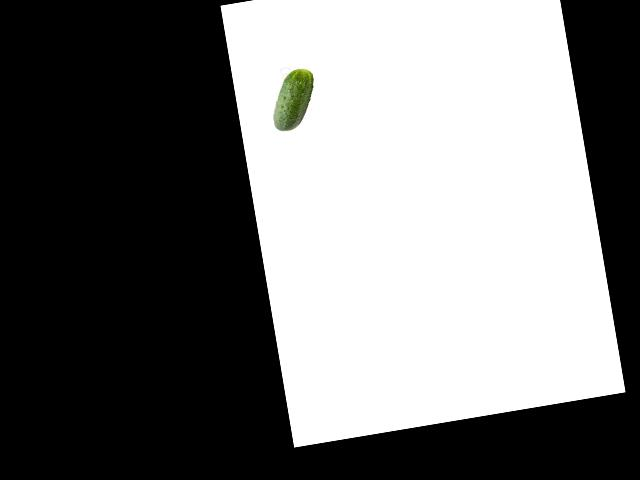cucumber: (265, 67, 321, 133)
